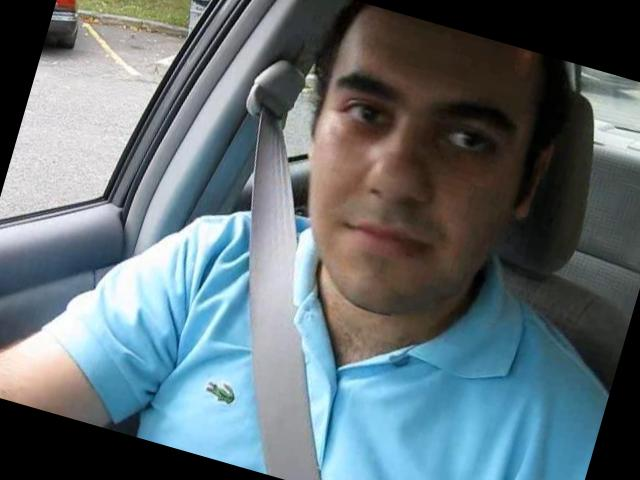eye_open: (333, 88, 400, 142), (438, 116, 504, 164)
face: (266, 44, 530, 334)
